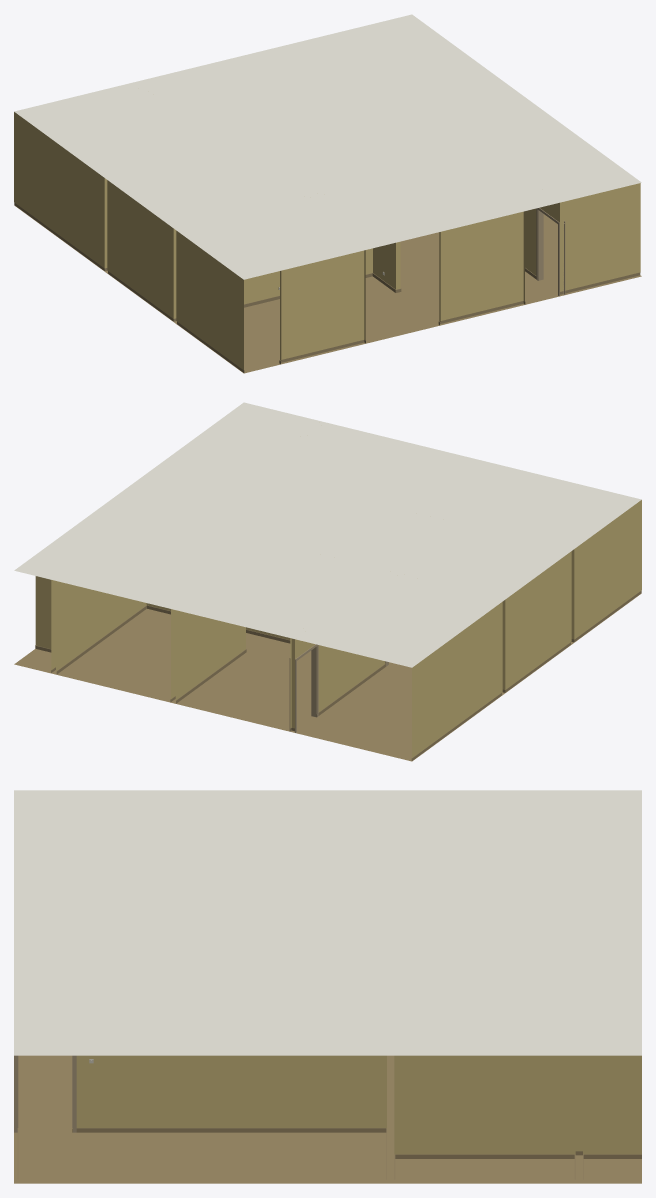
The model's file is chunk_0_3.glb.
The picture shows the model from 3 angles, top to bottom: view 1: azimuth 30°, elevation 25°; view 2: azimuth 150°, elevation 25°; view 3: azimuth 270°, elevation 25°; orthographic projection. The views are drawn at different scales.
Visible parts, largest first — view 1: chunk_0_3; view 2: chunk_0_3; view 3: chunk_0_3.
Boxes of the visible parts, x1,y1,x2,y2 form: chunk_0_3: (14, 14, 641, 373); chunk_0_3: (14, 402, 641, 761); chunk_0_3: (14, 790, 641, 1183).
Bounding box in the file's own units: 12.01 × 2.7 × 12.
